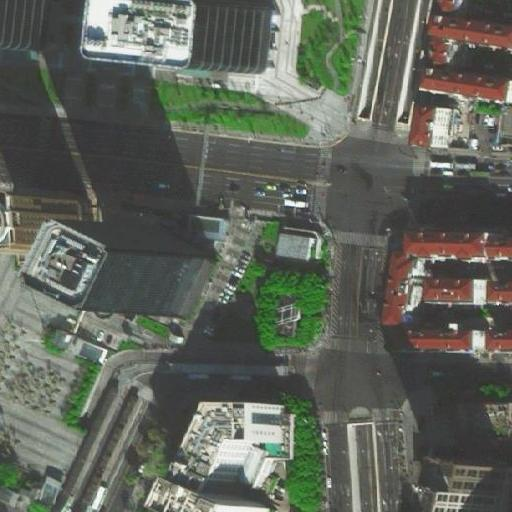building: (73, 388, 148, 511), (113, 238, 213, 328), (202, 410, 291, 505), (0, 165, 87, 248), (404, 223, 512, 262), (433, 464, 512, 512), (382, 248, 423, 334), (435, 13, 512, 50), (430, 69, 511, 104), (426, 277, 512, 308), (397, 329, 486, 356), (415, 103, 451, 147), (458, 396, 512, 420), (273, 232, 315, 260), (189, 216, 232, 243), (491, 107, 512, 150), (37, 476, 64, 506), (426, 38, 448, 74), (484, 328, 512, 354)
